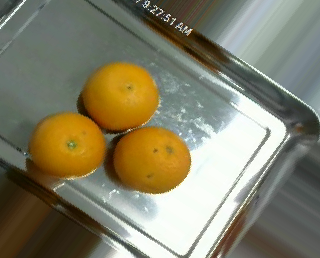Orange: (81, 62, 160, 131), (112, 126, 191, 195), (28, 111, 106, 179)
